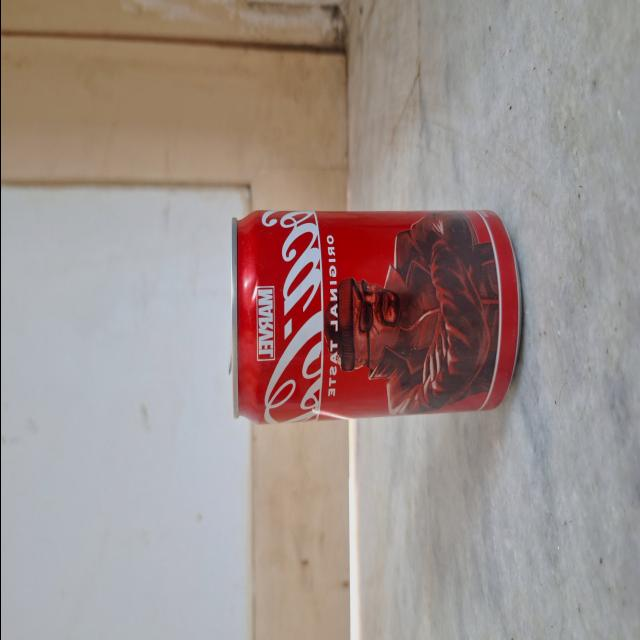Coca Cola - Marvel: (227, 203, 512, 415)
